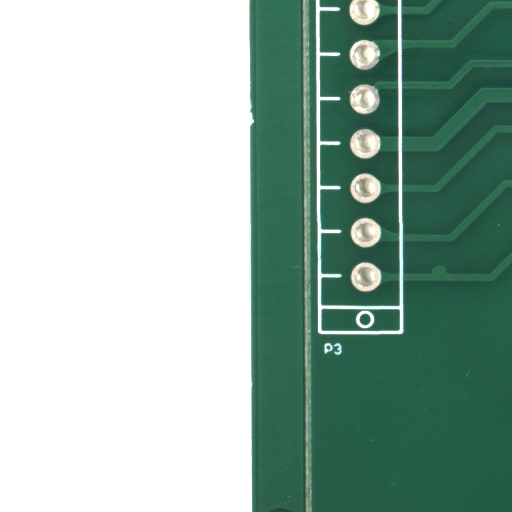Spur: (439, 269, 455, 280)
